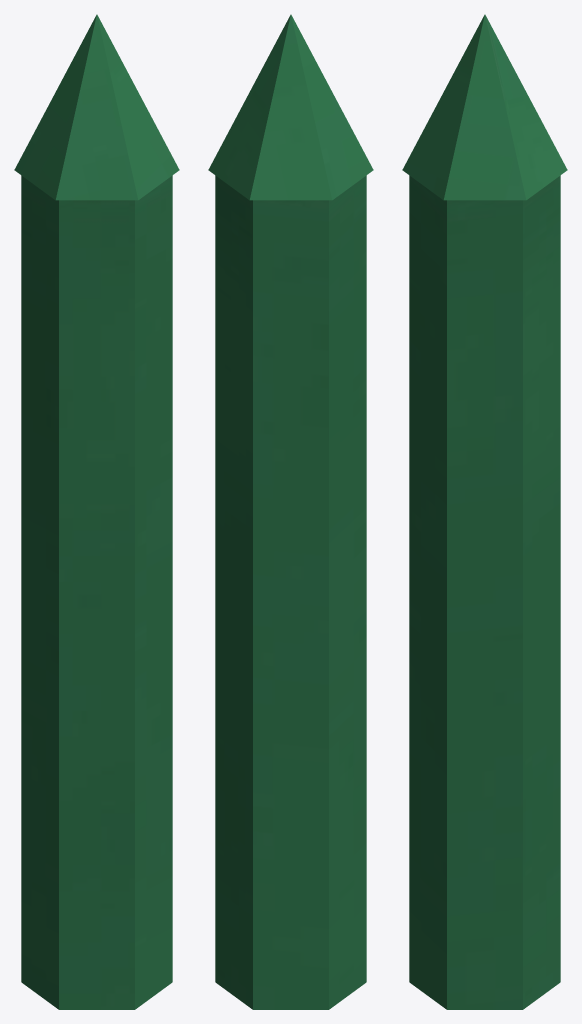
Rendered from prick_gron_tex.glb.
3 views of the same model, side by side, from view 1: azimuth 30°, elevation 25°; view 2: azimuth 150°, elevation 25°; view 3: azimuth 270°, elevation 25° (orthographic).
Visible parts, largest first — view 1: prick_gron; view 2: prick_gron; view 3: prick_gron.
Boxes of the visible parts, x1=… form: prick_gron: x1=14, y1=14, x2=179, y2=1009; prick_gron: x1=208, y1=14, x2=373, y2=1009; prick_gron: x1=402, y1=14, x2=567, y2=1009.
Bounding box in the file's own units: 0.4157 × 3.1 × 0.48.
1 material, 1 textured.
